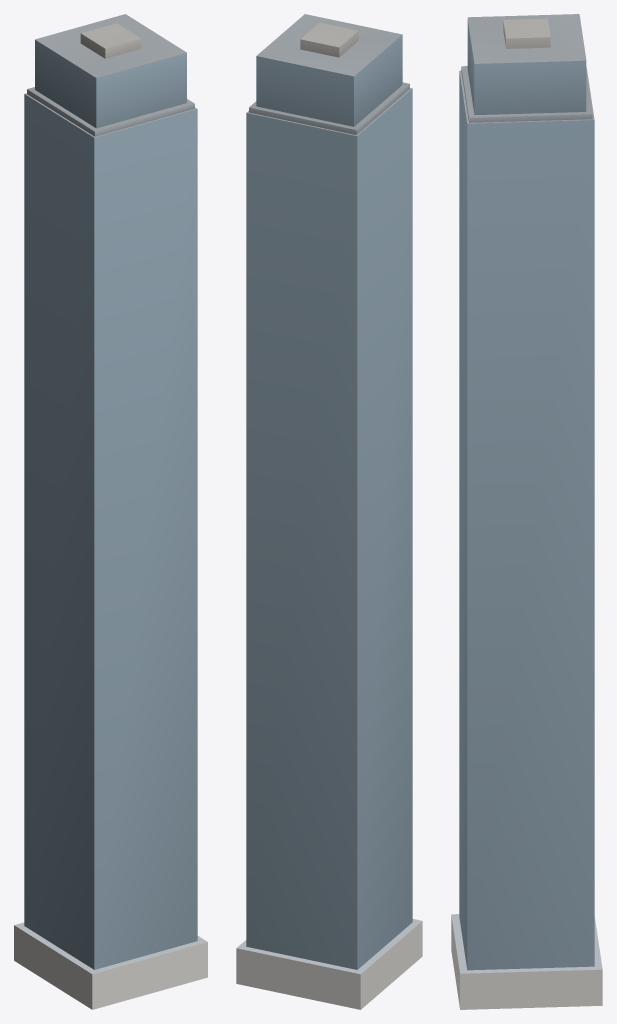
File: tower_01.glb
The picture shows the model from 3 angles, left to right: view 1: azimuth 30°, elevation 25°; view 2: azimuth 150°, elevation 25°; view 3: azimuth 270°, elevation 25°; orthographic projection.
Parts seen in each view (by area): view 1: tower_01; view 2: tower_01; view 3: tower_01.
Boxes of the visible parts, x1,y1,x2,y2 form: tower_01: (14,14,207,1009); tower_01: (236,14,422,1009); tower_01: (451,14,602,1009).
Size of the model in its own units: 52.73 by 367 by 53.02.
